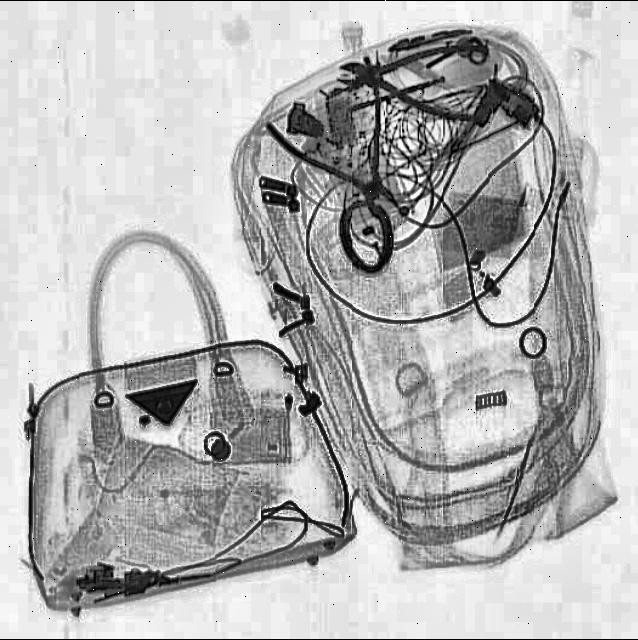Pliers: (265, 59, 433, 253), (338, 37, 476, 121)
